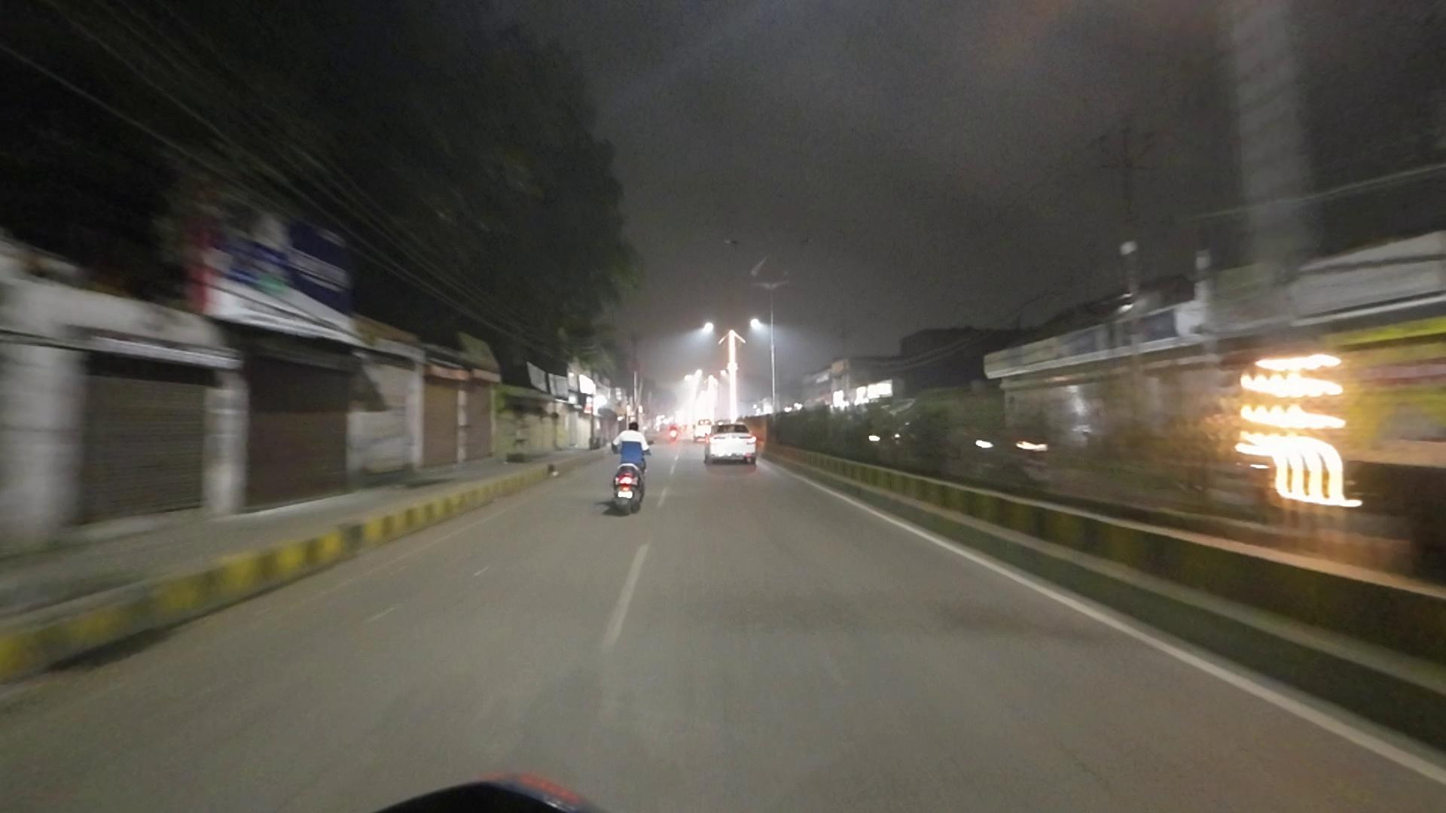streetlight: (773, 235, 814, 249), (721, 236, 761, 250)
